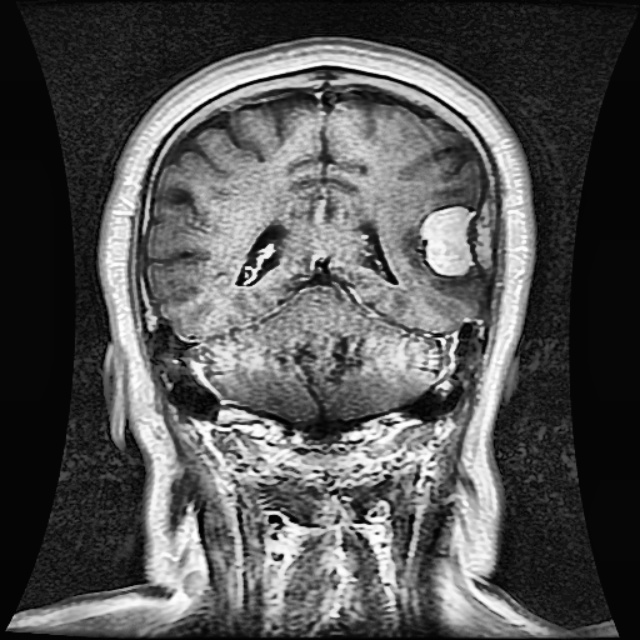Glioma: (419, 204, 475, 275)
